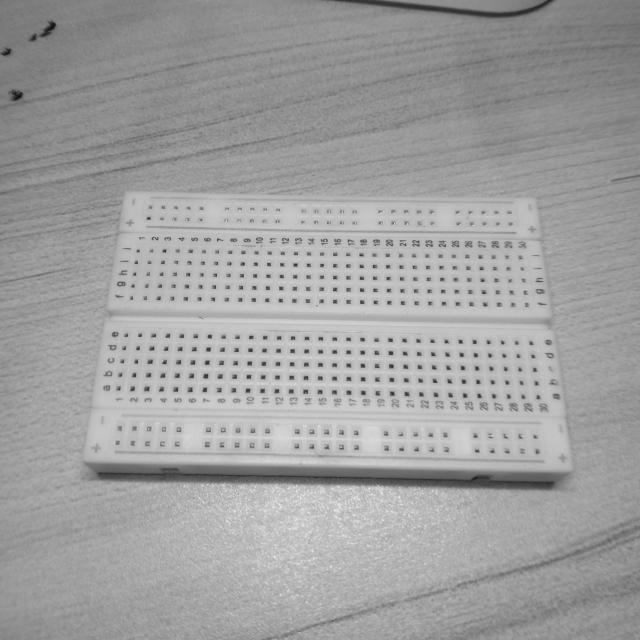breadboard: (80, 183, 577, 497)
